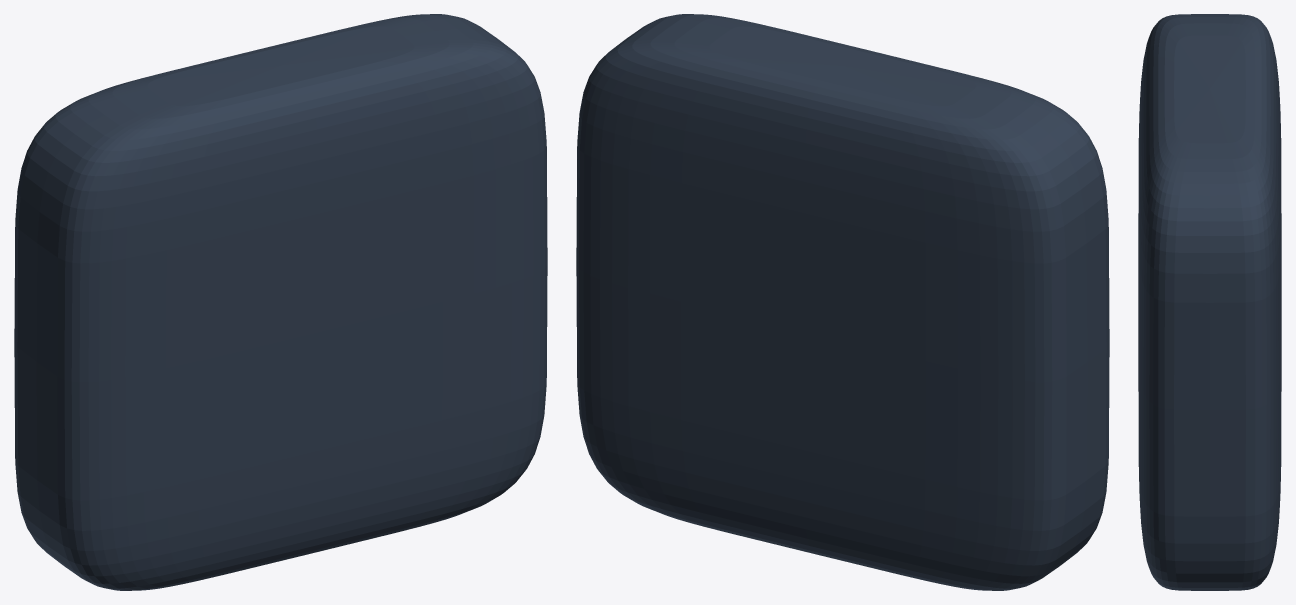
Rendered from chest_badge.glb.
The picture shows the model from 3 angles, left to right: view 1: azimuth 30°, elevation 25°; view 2: azimuth 150°, elevation 25°; view 3: azimuth 270°, elevation 25°; orthographic projection. The views are drawn at different scales.
Visible parts, largest first — view 1: chest_badge; view 2: chest_badge; view 3: chest_badge.
Part boxes in pixels (x1,y1,x2,y2): chest_badge: [14, 14, 547, 590]; chest_badge: [576, 14, 1109, 590]; chest_badge: [1138, 14, 1281, 590].
Bounding box in the file's own units: 27 × 25 × 7.6.
